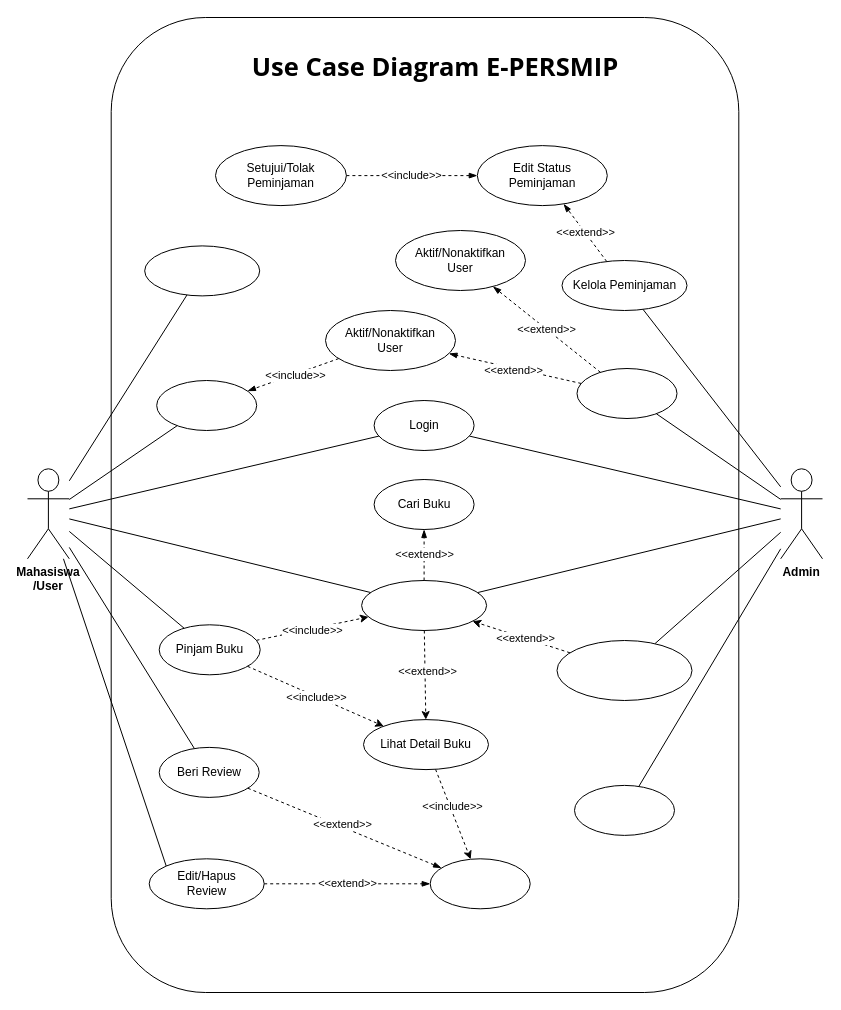
The diagram is 841 pixels wide and 1010 high, and some of its shapes have lost their labels. Here are the shapes that lost their labels. From the top down, the centre of each, then its label:
At point (202, 270): "Lihat Riwayat Peminjaman".
At point (206, 405): "Register".
At point (626, 393): "Kelola User".
At point (424, 605): "Lihat Daftar Buku".
At point (624, 670): "Tambah/Edit/Hapus Buku".
At point (624, 809): "Lihat Statistik".
At point (479, 883): "Lihat Review".
